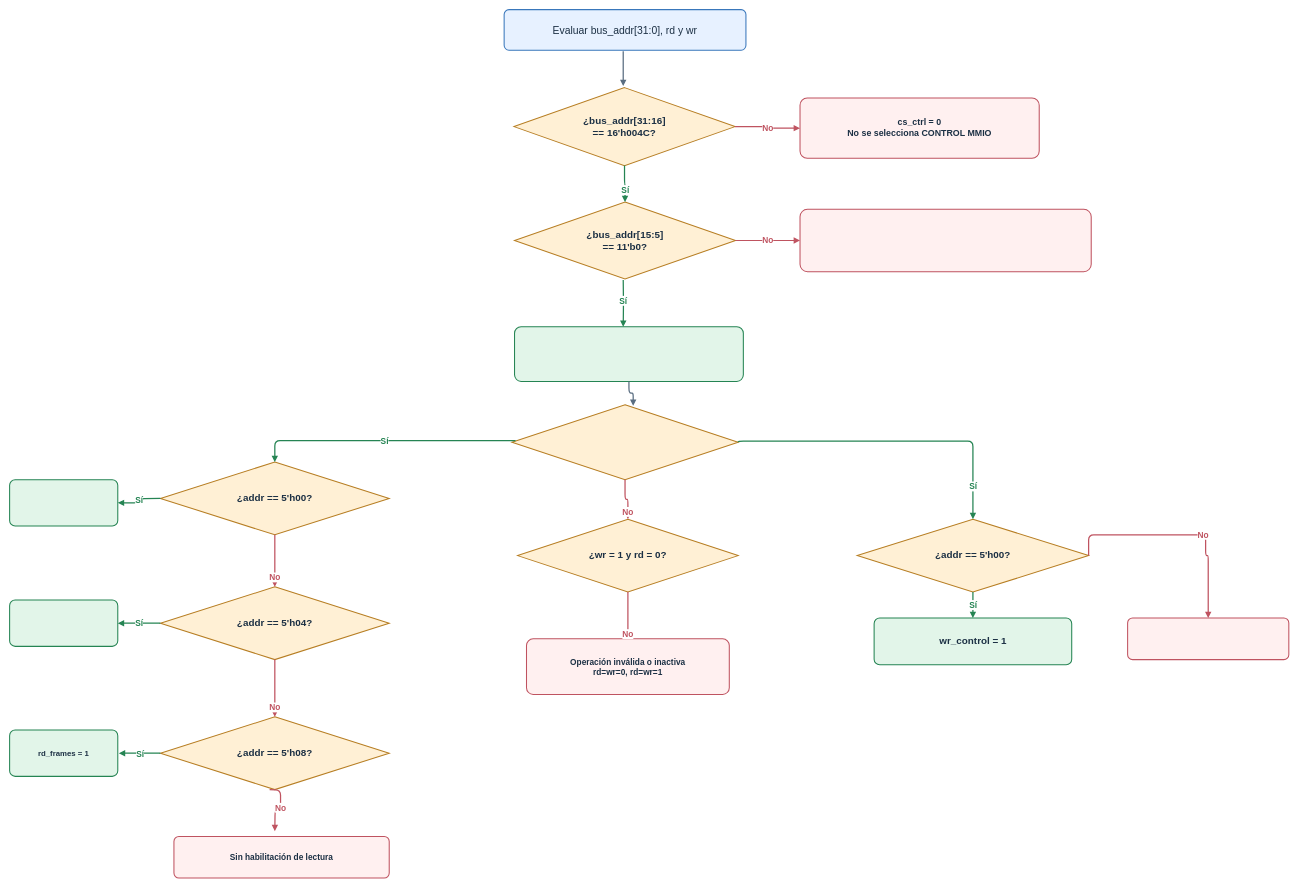
This 1298x887 diagram has some shape labels left out. Each missing label, with the centre of its shape:
"cs_ctrl = 0 Dirección fuera de los 32 B Ej.: 0x004C0020" goes at point 945,240.
"cs_ctrl = 1 addr = bus_addr[4:0]" goes at point 629,354.
"No se escribe STATUS ni FRAMES" goes at point 1208,638.
"rd_control = 1" goes at point 63,502.
"rd_status = 1" goes at point 63,623.
"¿rd = 1 y wr = 0?" goes at point 624,442.
